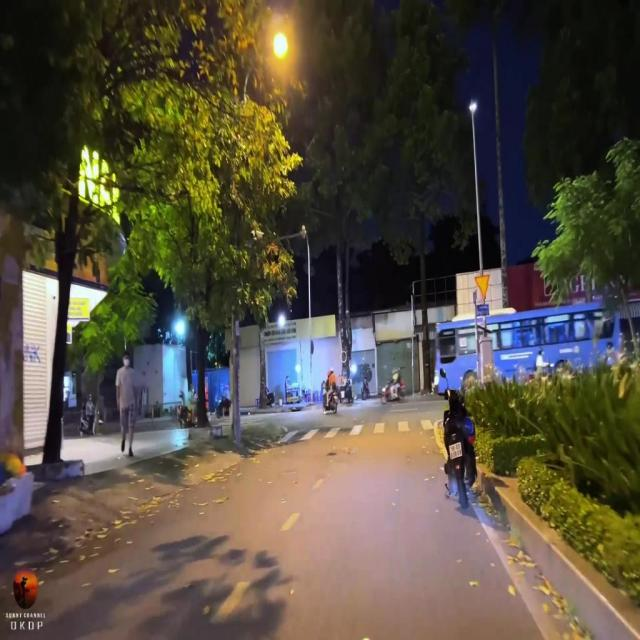giao_nhau_voi_duong_uu_tien: (474, 274, 490, 300)
